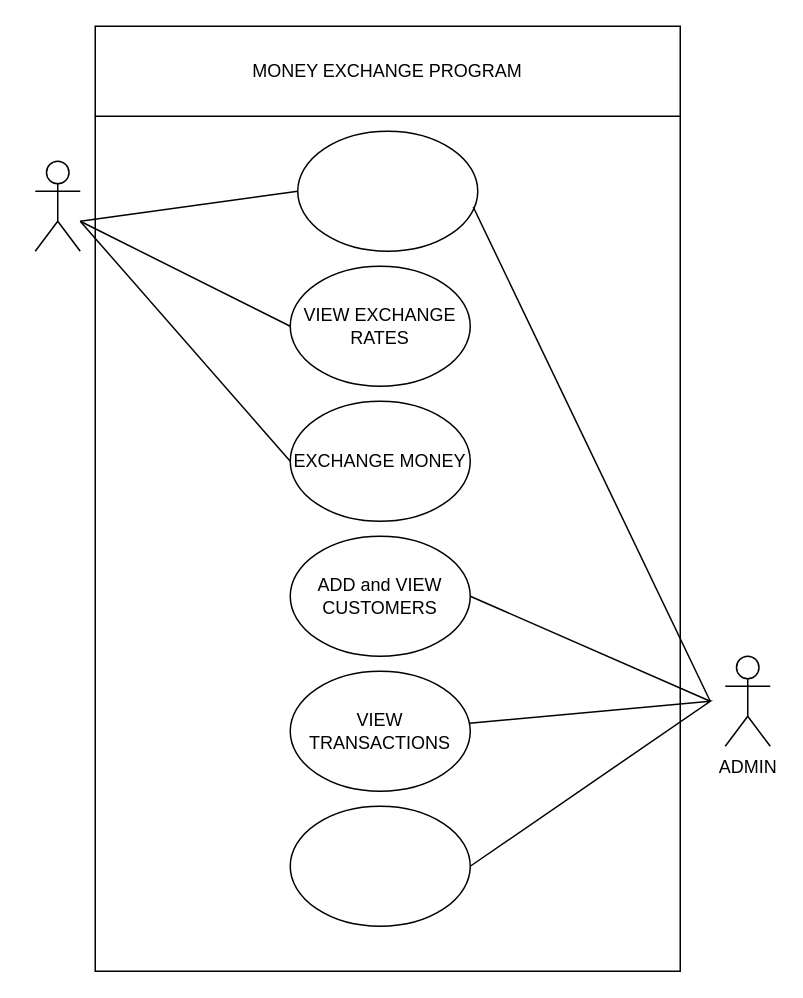
Image size: 803x998. Some labels were removed from this diagram. Each missing label, with the centre of its shape:
CLIENT: point 57,205
REPORTS: point 379,865
VIEW CURRENCIES: point 387,190
